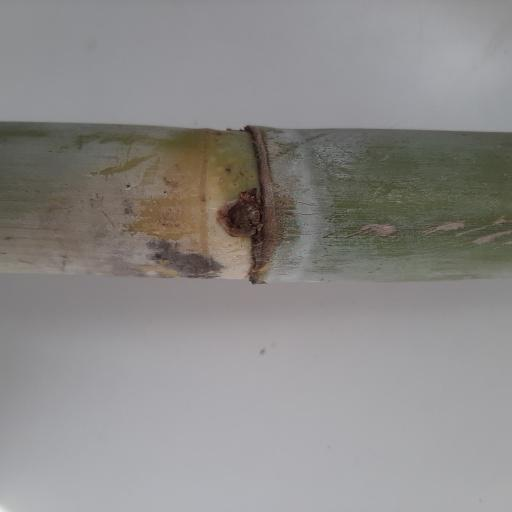Bud: (227, 200, 259, 230)
